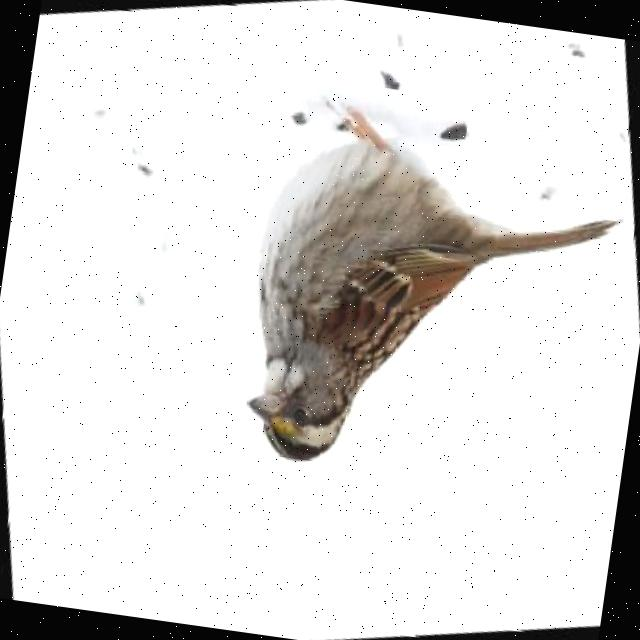sparrow: (153, 71, 636, 518)
